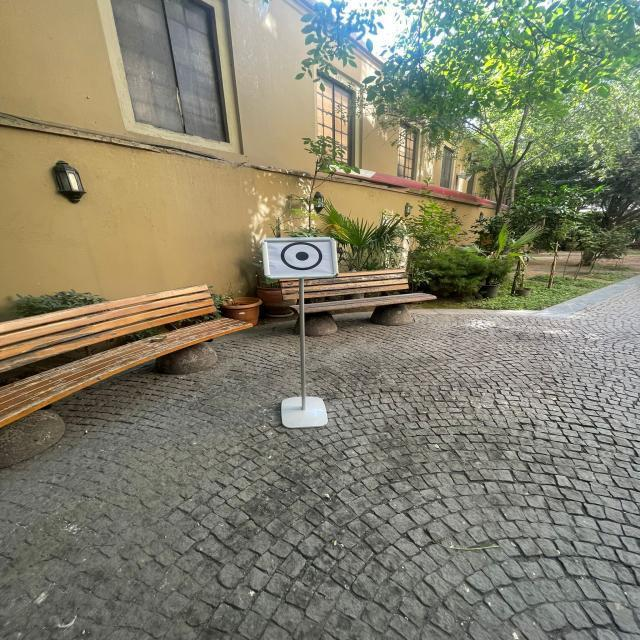Target: (246, 226, 356, 288)
inner: (288, 247, 316, 264)
